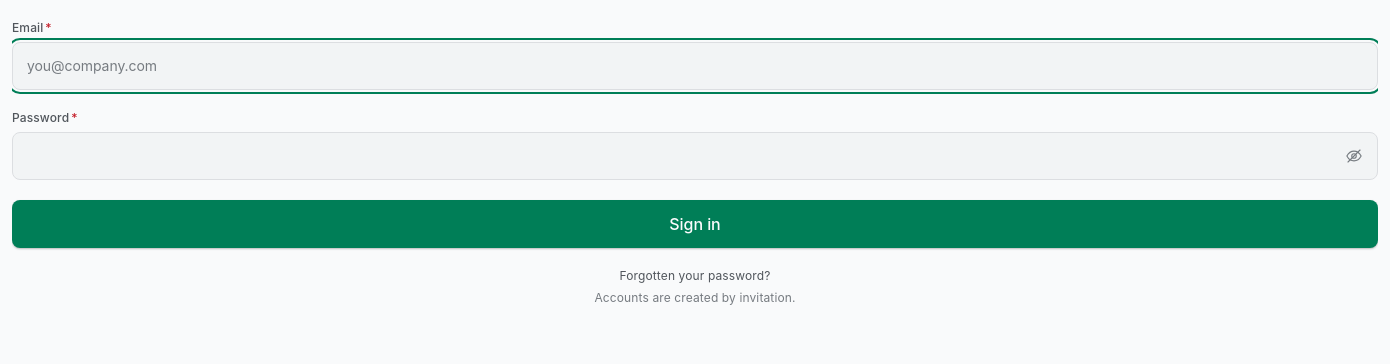
Test: authentication failure › announces the error with role="alert" and returns focus to the form
Type "sam@abcplumbing.test" into the field labelled "Email*" at coordinates (695, 66), box [12, 42, 1378, 90]
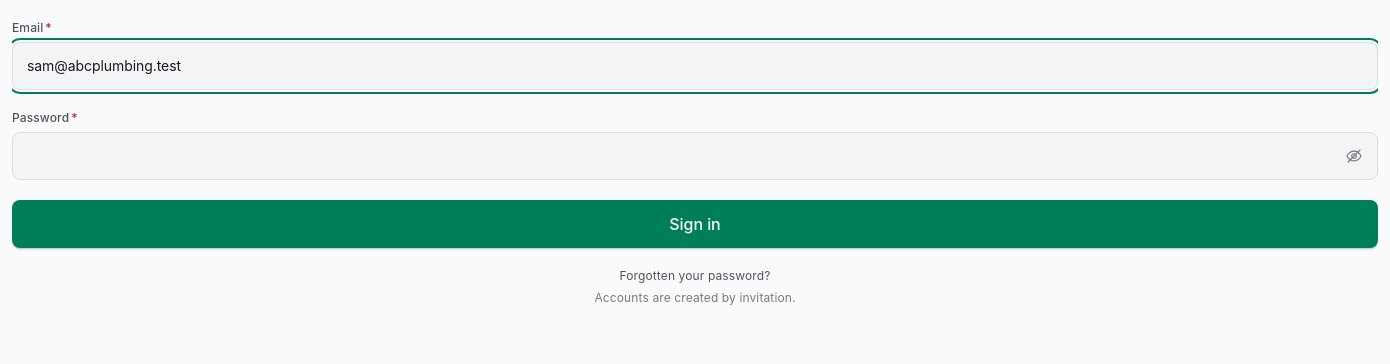
Type "wrong-password-here" into the password field labelled "Password*" at coordinates (695, 156), box [12, 132, 1378, 180]
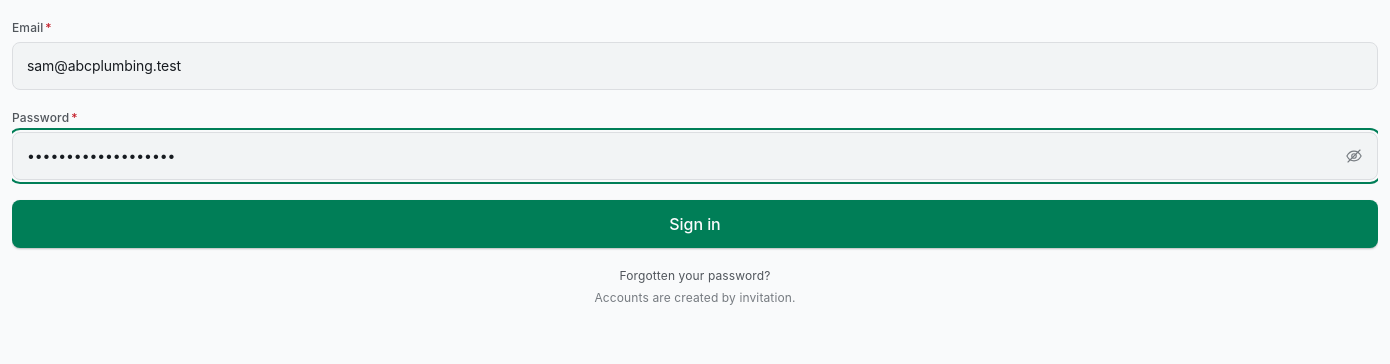
Click the button "Sign in" at coordinates (695, 224), box [12, 200, 1378, 248]
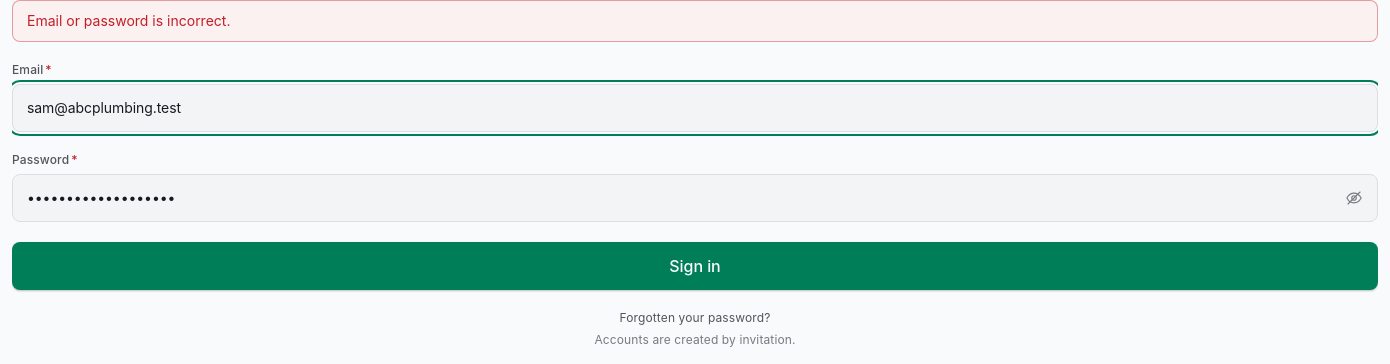
Check: the message shows "Email or password is incorrect", box [27, 12, 230, 29]
